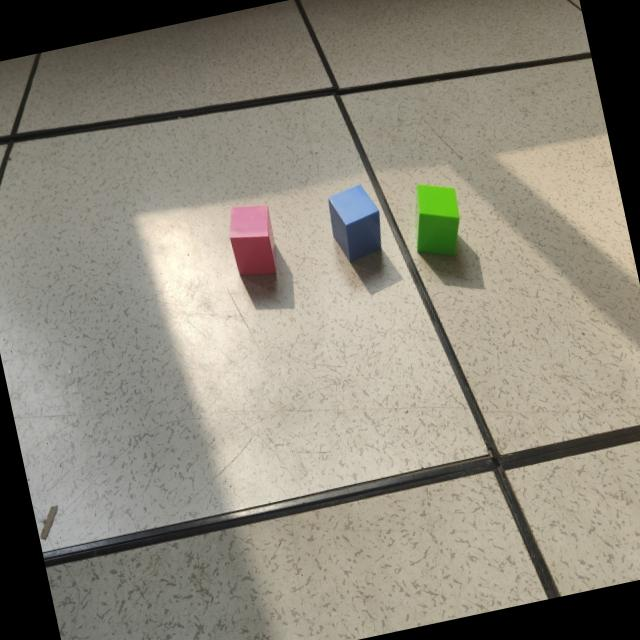blue: (328, 177, 383, 262)
green: (414, 182, 461, 259)
pink: (226, 196, 278, 276)
